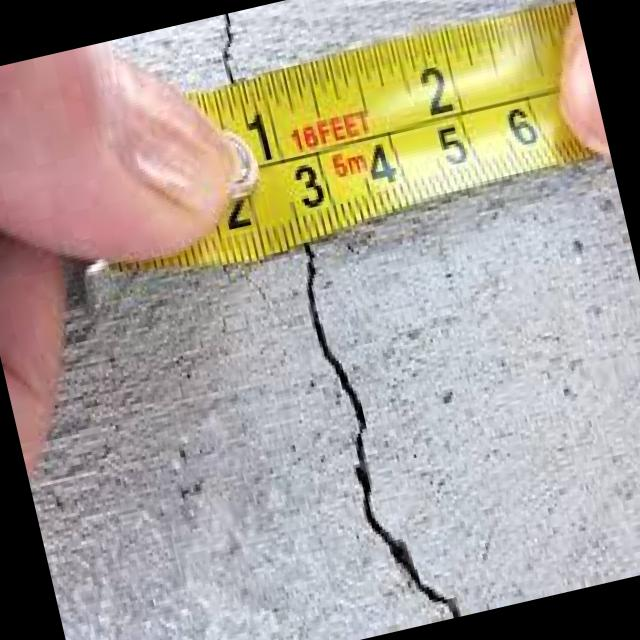crack: (288, 224, 460, 632), (210, 12, 244, 82)
